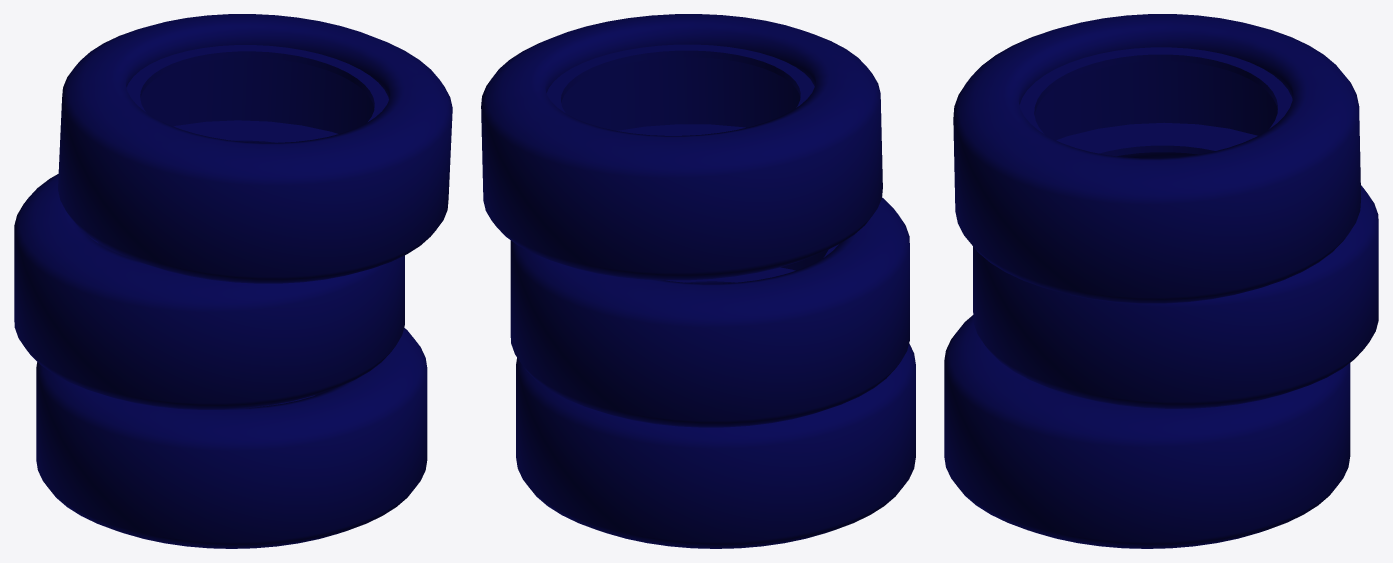
The model's file is SM_TireStacked01.fbx.
The picture shows the model from 3 angles, left to right: view 1: azimuth 30°, elevation 25°; view 2: azimuth 150°, elevation 25°; view 3: azimuth 270°, elevation 25°; orthographic projection. The views are drawn at different scales.
Parts seen in each view (by area): view 1: TireStacked01; view 2: TireStacked01; view 3: TireStacked01.
Boxes of the visible parts, x1,y1,x2,y2 form: TireStacked01: (14,14,452,548); TireStacked01: (481,14,915,548); TireStacked01: (944,14,1378,548).
Size of the model in its own units: 78.45 by 77.92 by 75.52.
